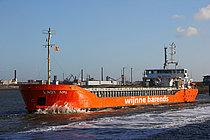Ship: (15, 38, 202, 116)
